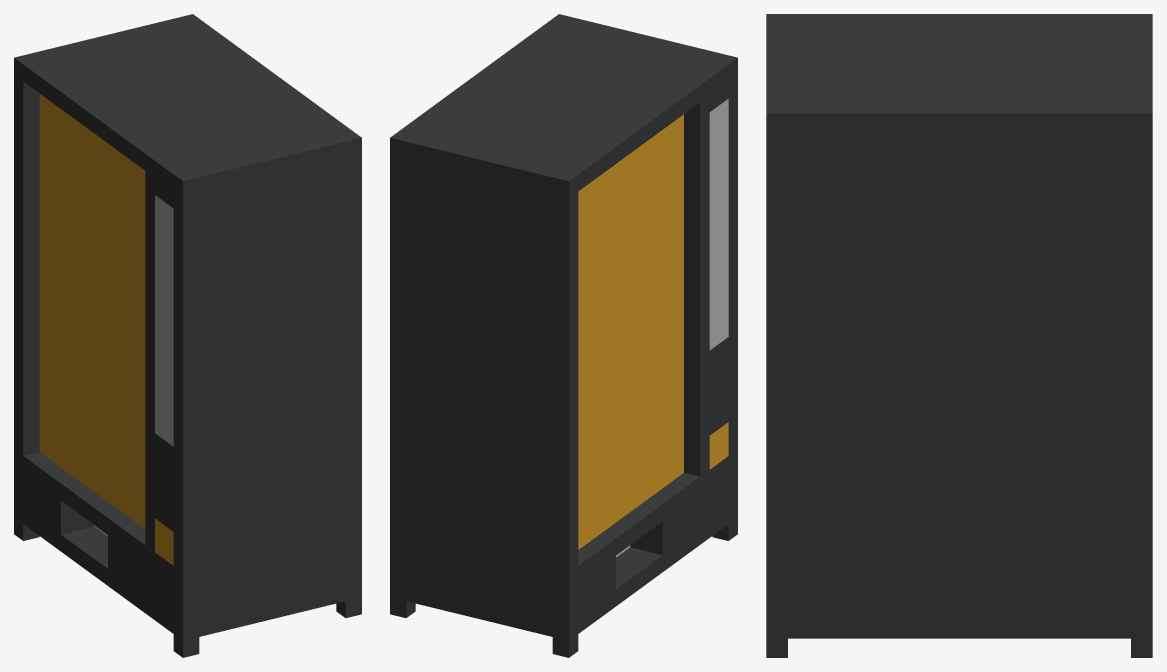
Rendered from dispenser.obj.
The picture shows the model from 3 angles, left to right: view 1: azimuth 30°, elevation 25°; view 2: azimuth 150°, elevation 25°; view 3: azimuth 270°, elevation 25°; orthographic projection. The views are drawn at different scales.
Bounding box in the file's own units: 1.1 × 2.8 × 1.8.
1 material, 1 textured.
